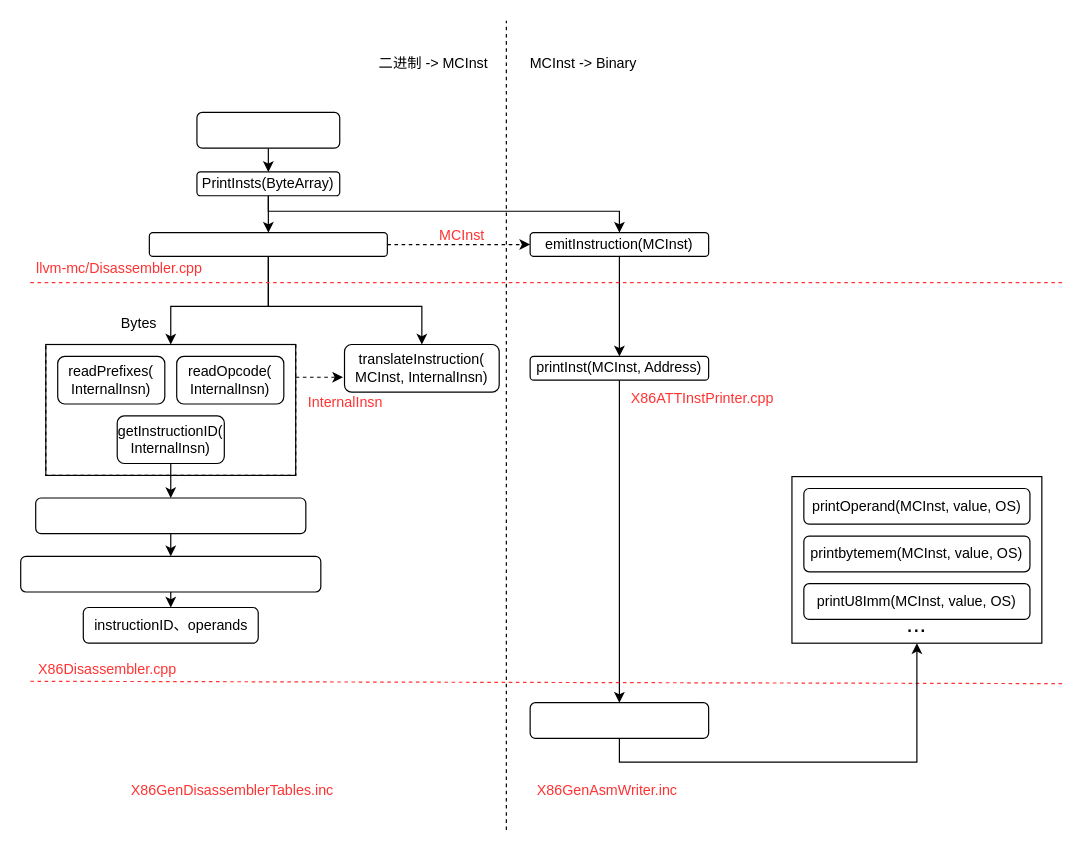
The diagram is 1089 pixels wide and 852 high, and some of its shapes have lost their labels. Here are the shapes that lost their labels. From the top down, the box of each, then its label:
(196, 111, 340, 148): disassemble(Target, Buffer)
(148, 231, 387, 256): getInstruction(MCInst, size, Bytes)
(35, 497, 306, 534): getInstructionIDWithAttrMask(&ID, insn, attrMask)
(20, 555, 321, 592): decode(type, insnContext, opcode, modRM)
(529, 702, 709, 738): printInstruction(MCInst, Address, OS)
